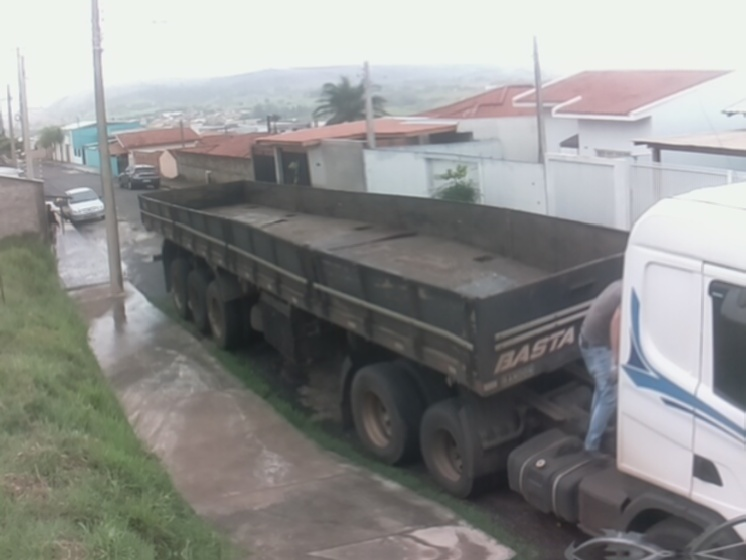person: (580, 277, 623, 454), (45, 202, 61, 260)
